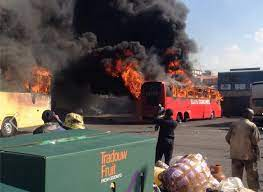smoke: (1, 1, 209, 91)
